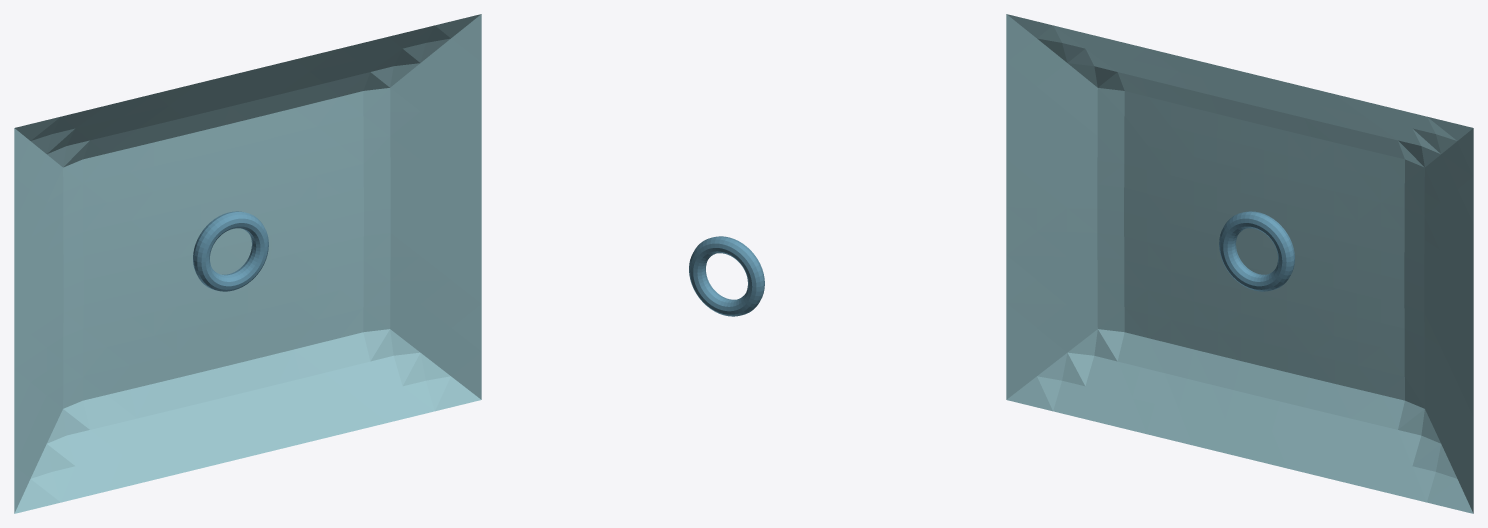
Rendered from dranmar_rescue_film_delaminated.glb.
3 renders of one model, left to right at view 1: azimuth 30°, elevation 25°; view 2: azimuth 150°, elevation 25°; view 3: azimuth 330°, elevation 25°, orthographic.
Parts seen in each view (by area): view 1: Film, Port; view 2: Port; view 3: Film, Port.
Part boxes in pixels (x1,y1,x2,y2): Film: (14,14,481,513); Port: (193,211,268,291); Port: (689,236,764,316); Film: (1006,14,1473,513); Port: (1219,211,1294,291).
Bounding box in the file's own units: 0.19 × 0.15 × 0.0175.
